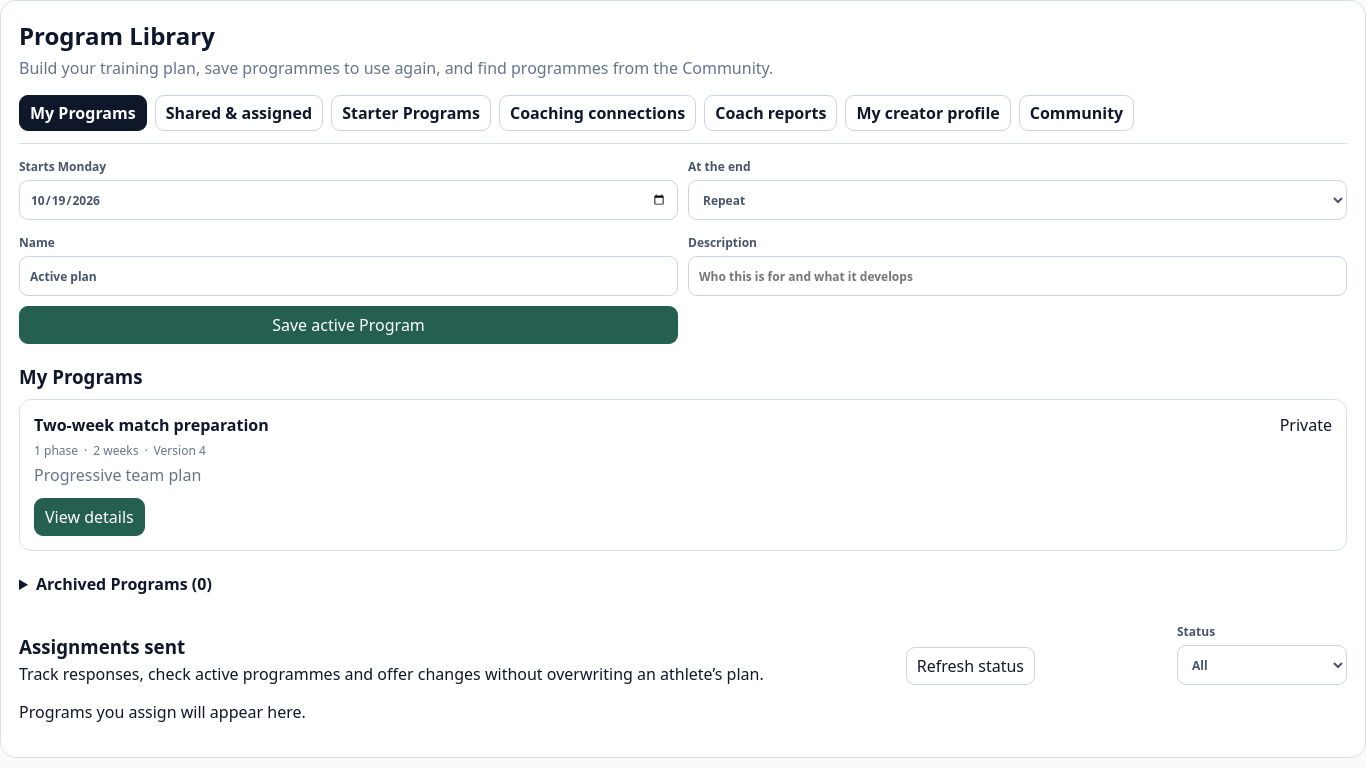
direct client assignments › directs a coach without recipients to connections
expect the heading "Two-week match preparation" is shown: met, box [34,414,269,436]
What coordinates should you click on to do the following:
click the button "View details"
I would click on:
 (89, 517)
Its box is [34,498,145,536].
(page scrolled)
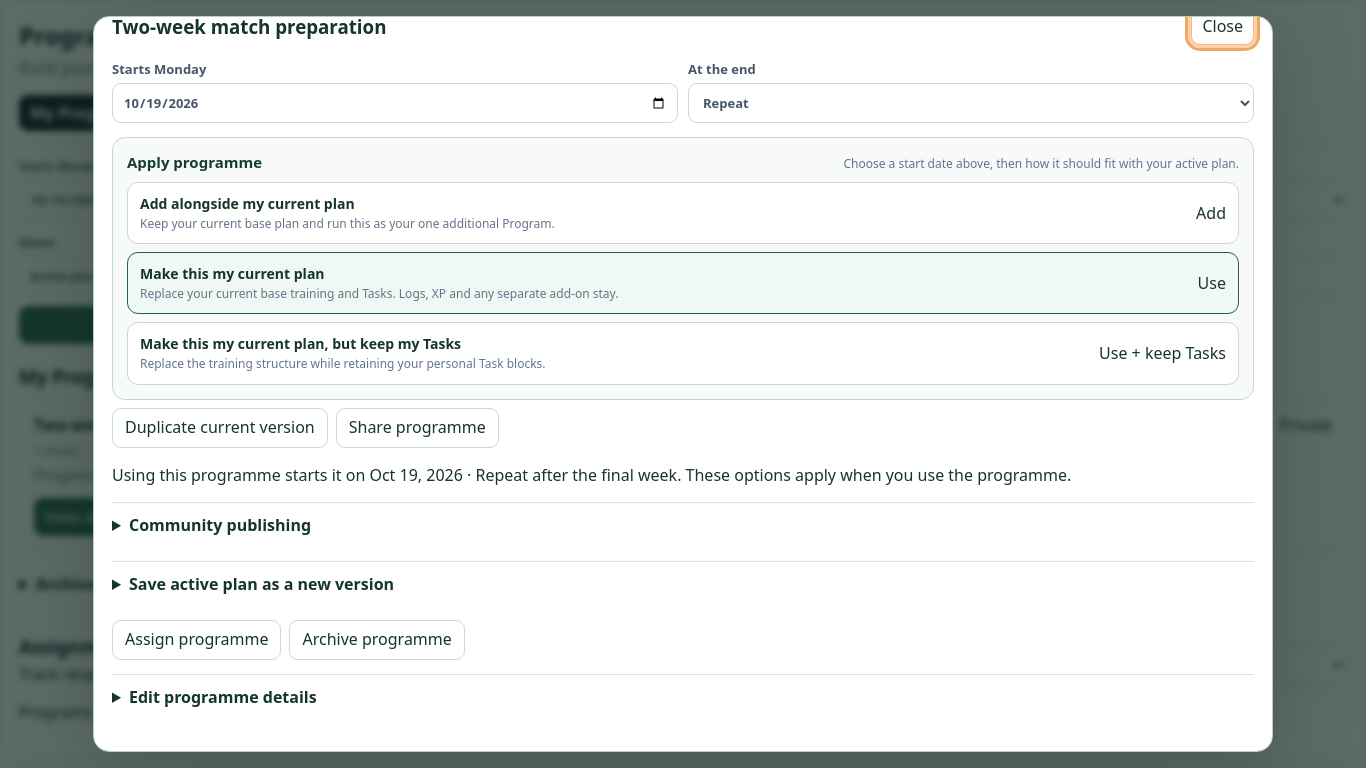
What coordinates should you click on to do the following:
click the button "Assign programme"
I would click on:
 (197, 640)
Its box is [112,620,281,660].
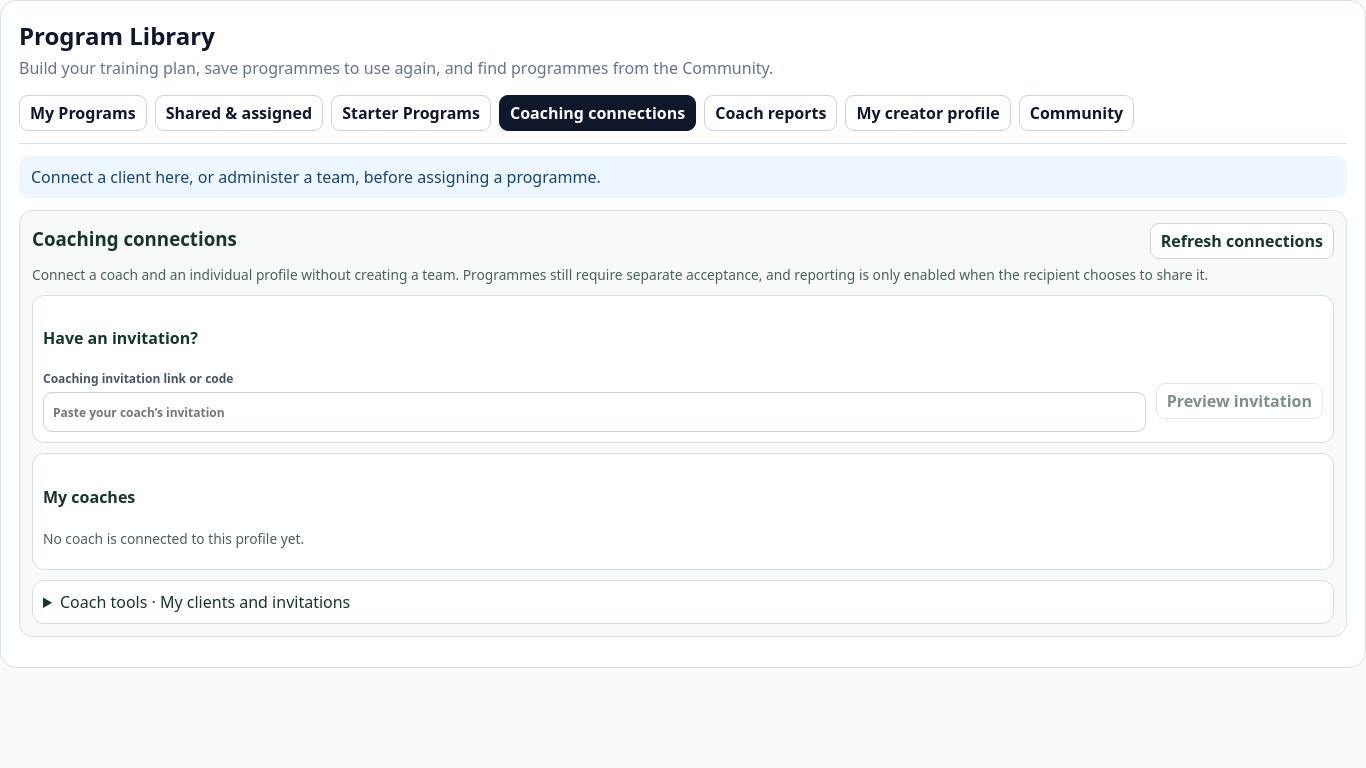
expect the text "Connect a client here, or administer a team, before assigning a programme." is shown: met, box [19,156,1347,198]
expect the heading "Coaching connections" is shown: met, box [32,226,237,250]
